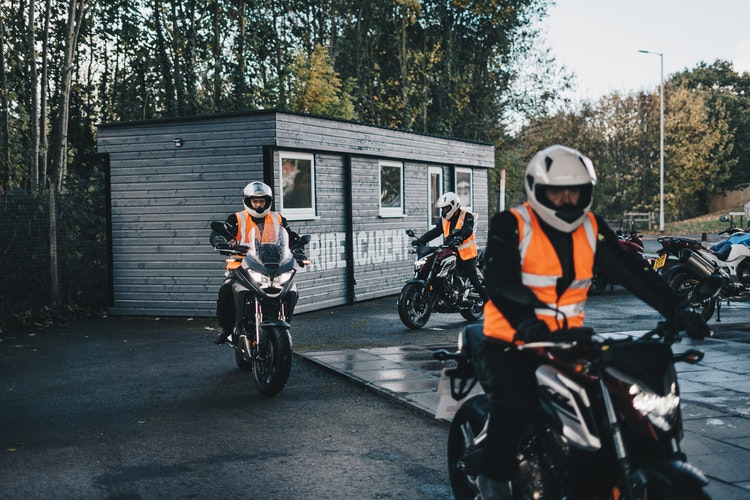helmet: (529, 144, 595, 233), (243, 175, 277, 222), (438, 190, 464, 219)
